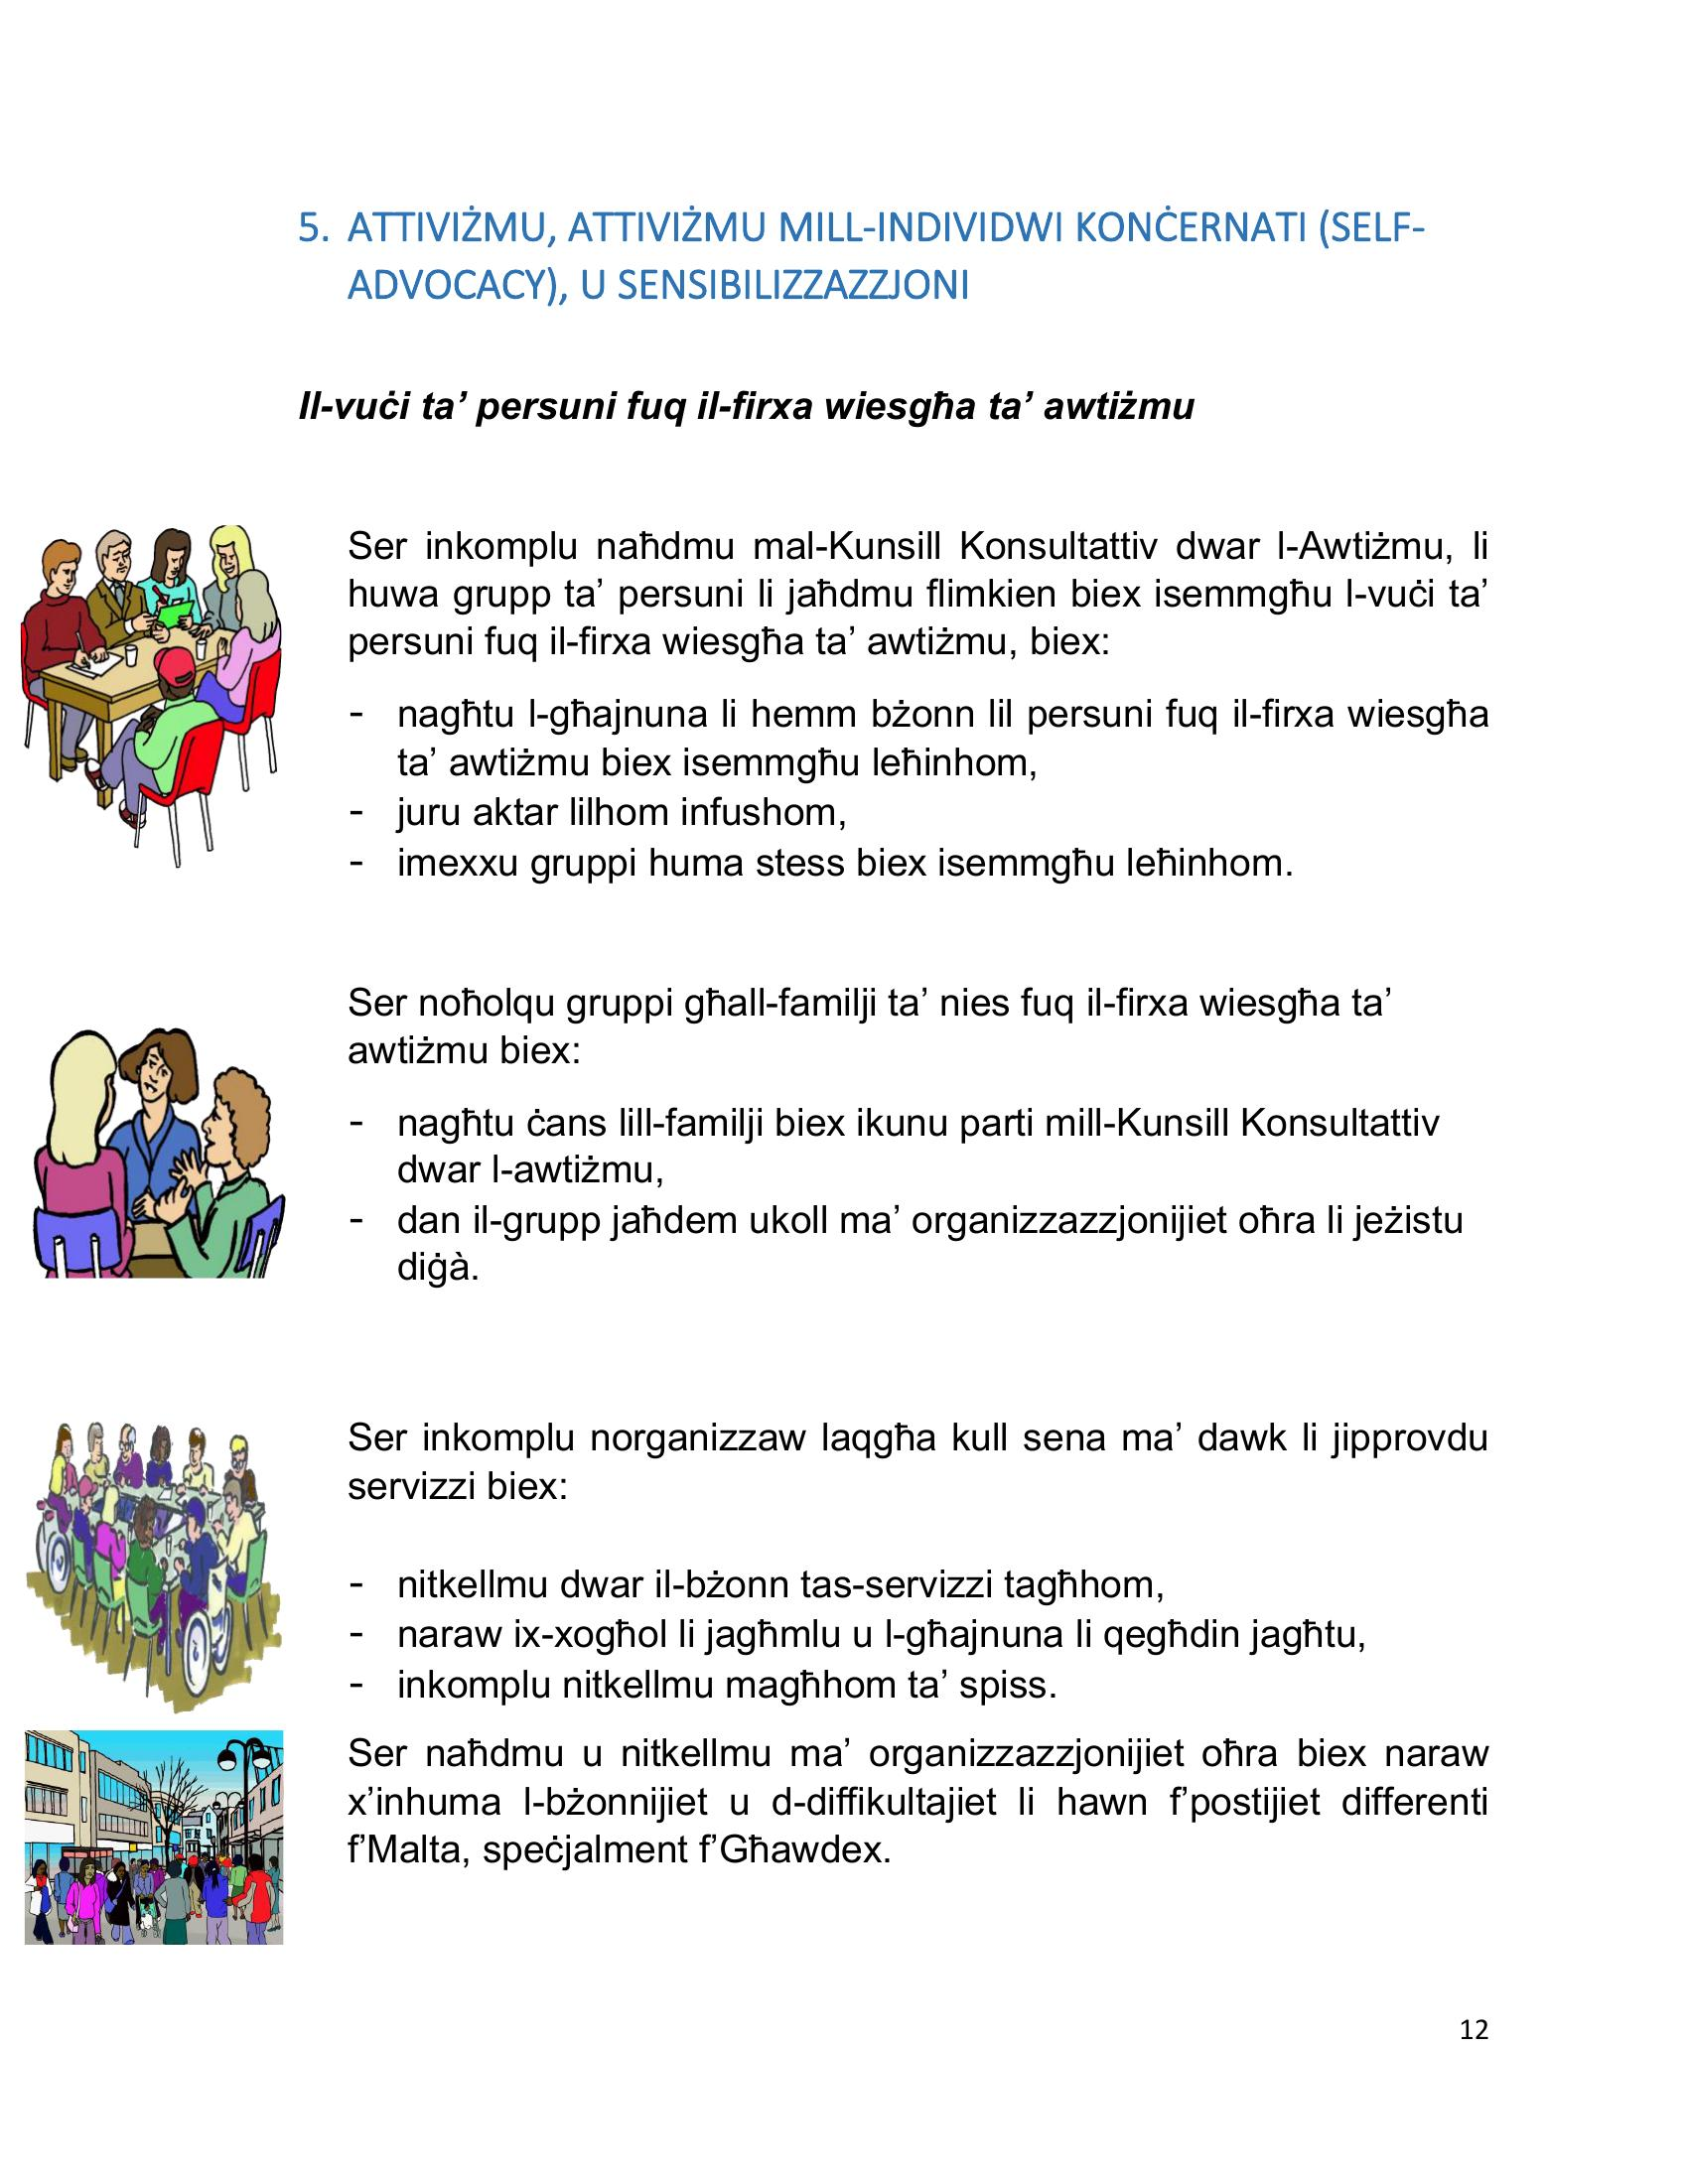text: (319, 509, 1507, 1886), (273, 170, 1443, 470)
